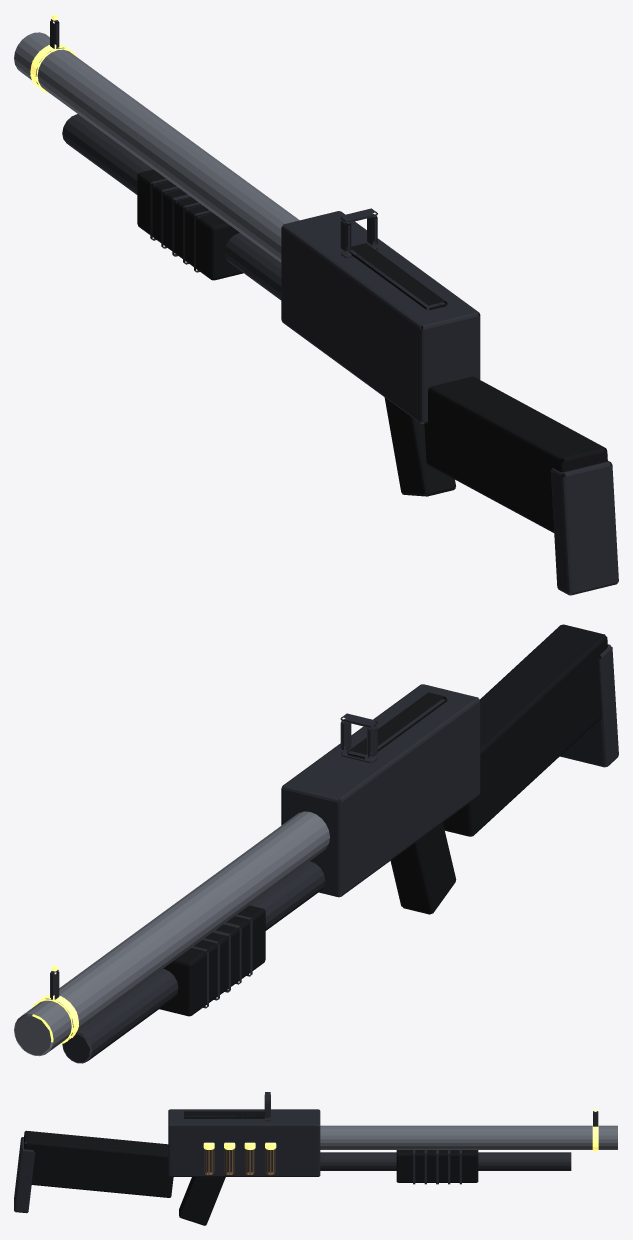
The model's file is shotgun_lod.glb.
3 renders of one model, top to bottom at view 1: azimuth 30°, elevation 25°; view 2: azimuth 150°, elevation 25°; view 3: azimuth 270°, elevation 25°, orthographic. The views are drawn at different scales.
Parts seen in each view (by area): view 1: Body, Pump, IronSights; view 2: Body, Pump, IronSights; view 3: Body, Pump, IronSights.
Boxes of the visible parts, x1=… form: Body: x1=14, y1=32, x2=618, y2=595; Pump: x1=137, y1=169, x2=243, y2=280; IronSights: x1=50, y1=14, x2=377, y2=258; Body: x1=14, y1=624, x2=618, y2=1063; Pump: x1=159, y1=905, x2=265, y2=1016; IronSights: x1=50, y1=713, x2=377, y2=999; Body: x1=14, y1=1109, x2=617, y2=1225; Pump: x1=396, y1=1149, x2=478, y2=1184; IronSights: x1=264, y1=1092, x2=598, y2=1126.
Size of the model in its own units: 0.077 by 0.2382 by 1.03.
